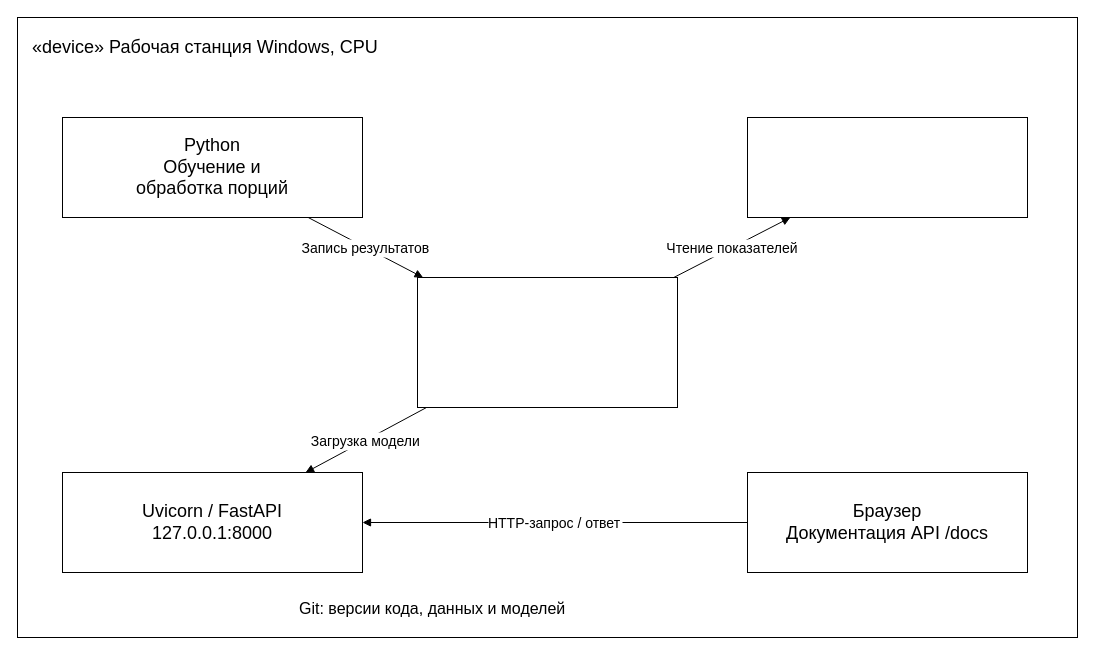
The diagram is 1095 pixels wide and 655 high, and some of its shapes have lost their labels. The shapes that lost their labels are listed below. From the top down, each one's box as (x1, y1, x2, y2) in pixels, then its label:
(746, 116, 1028, 218): Jupyter Notebook Панель показателей
(416, 276, 678, 408): «artifact» CSV / JSON / joblib data / reports / models
